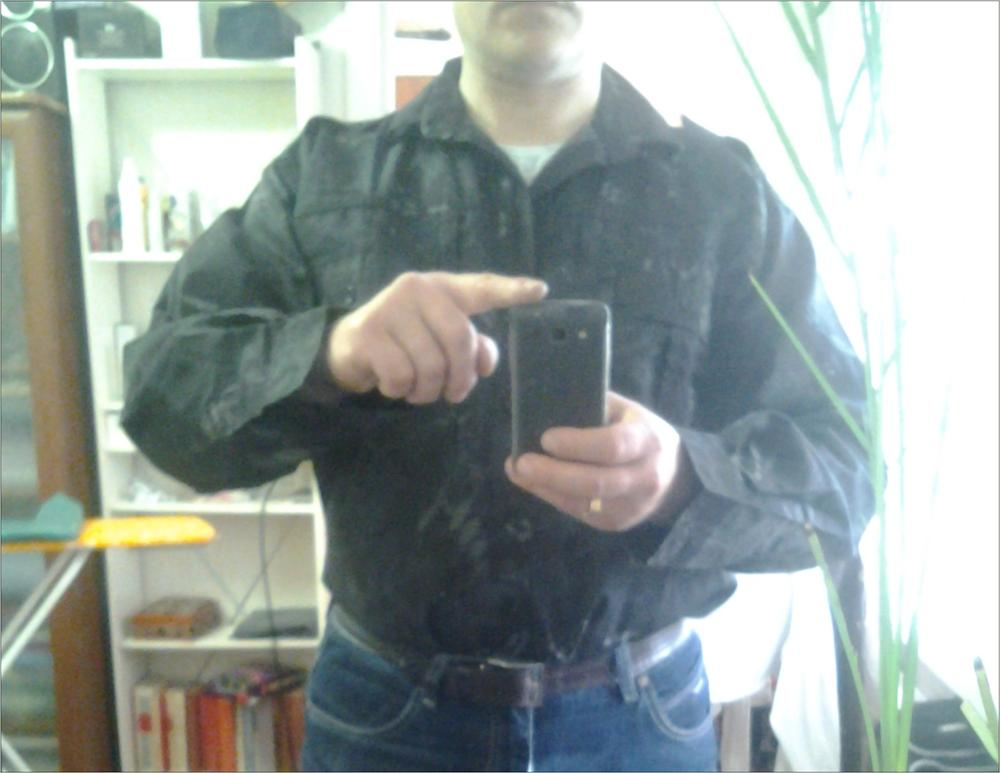shirts: (139, 76, 878, 638)
